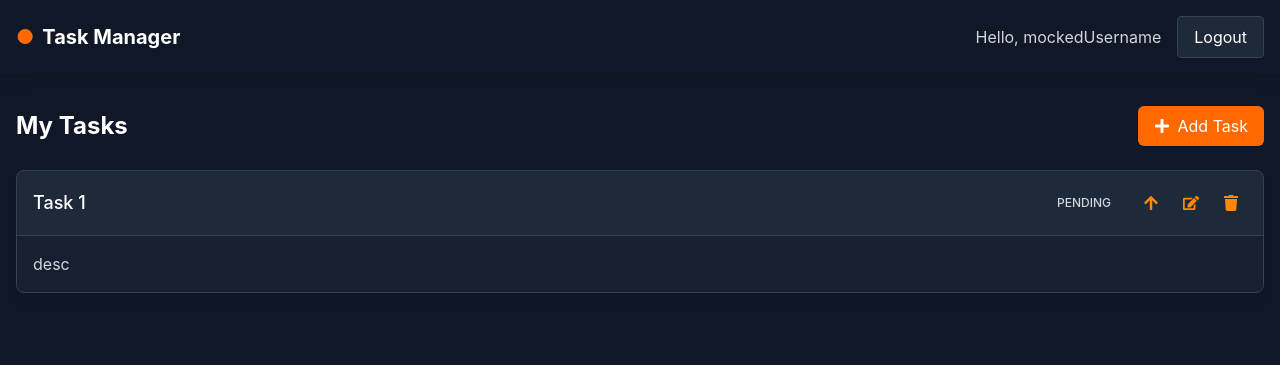
Test: Home › removes task from the list after clicking delete
Expected: the heading "Task 1" is shown, [33,192,86,213]
Click the button titled "Delete task" at (1231, 203), box [1215,187,1247,219]
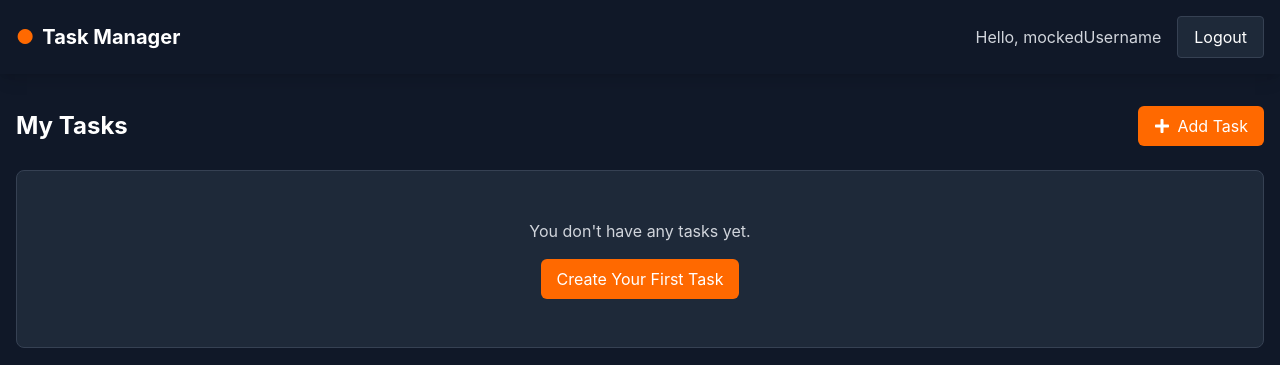
Expected: the heading "Task 1" is gone
